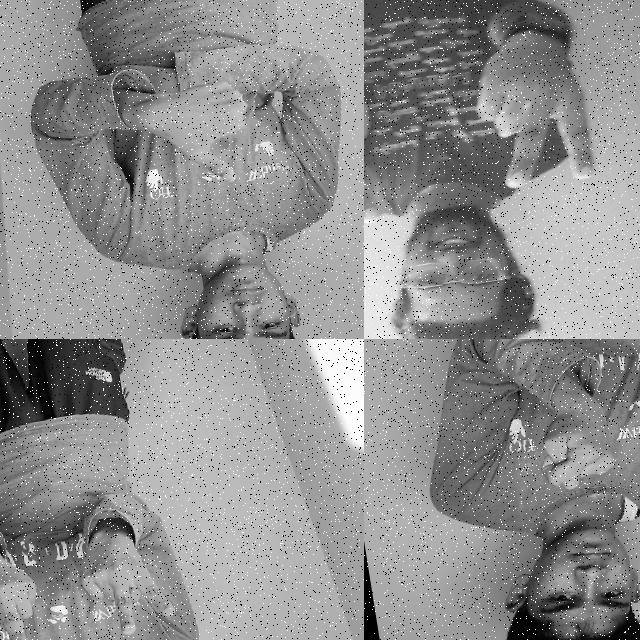Dulya: (521, 371, 634, 501)
Reversed Victory: (453, 10, 617, 198), (67, 519, 187, 640), (0, 512, 54, 640)
Thumbs Up: (127, 70, 266, 204)
